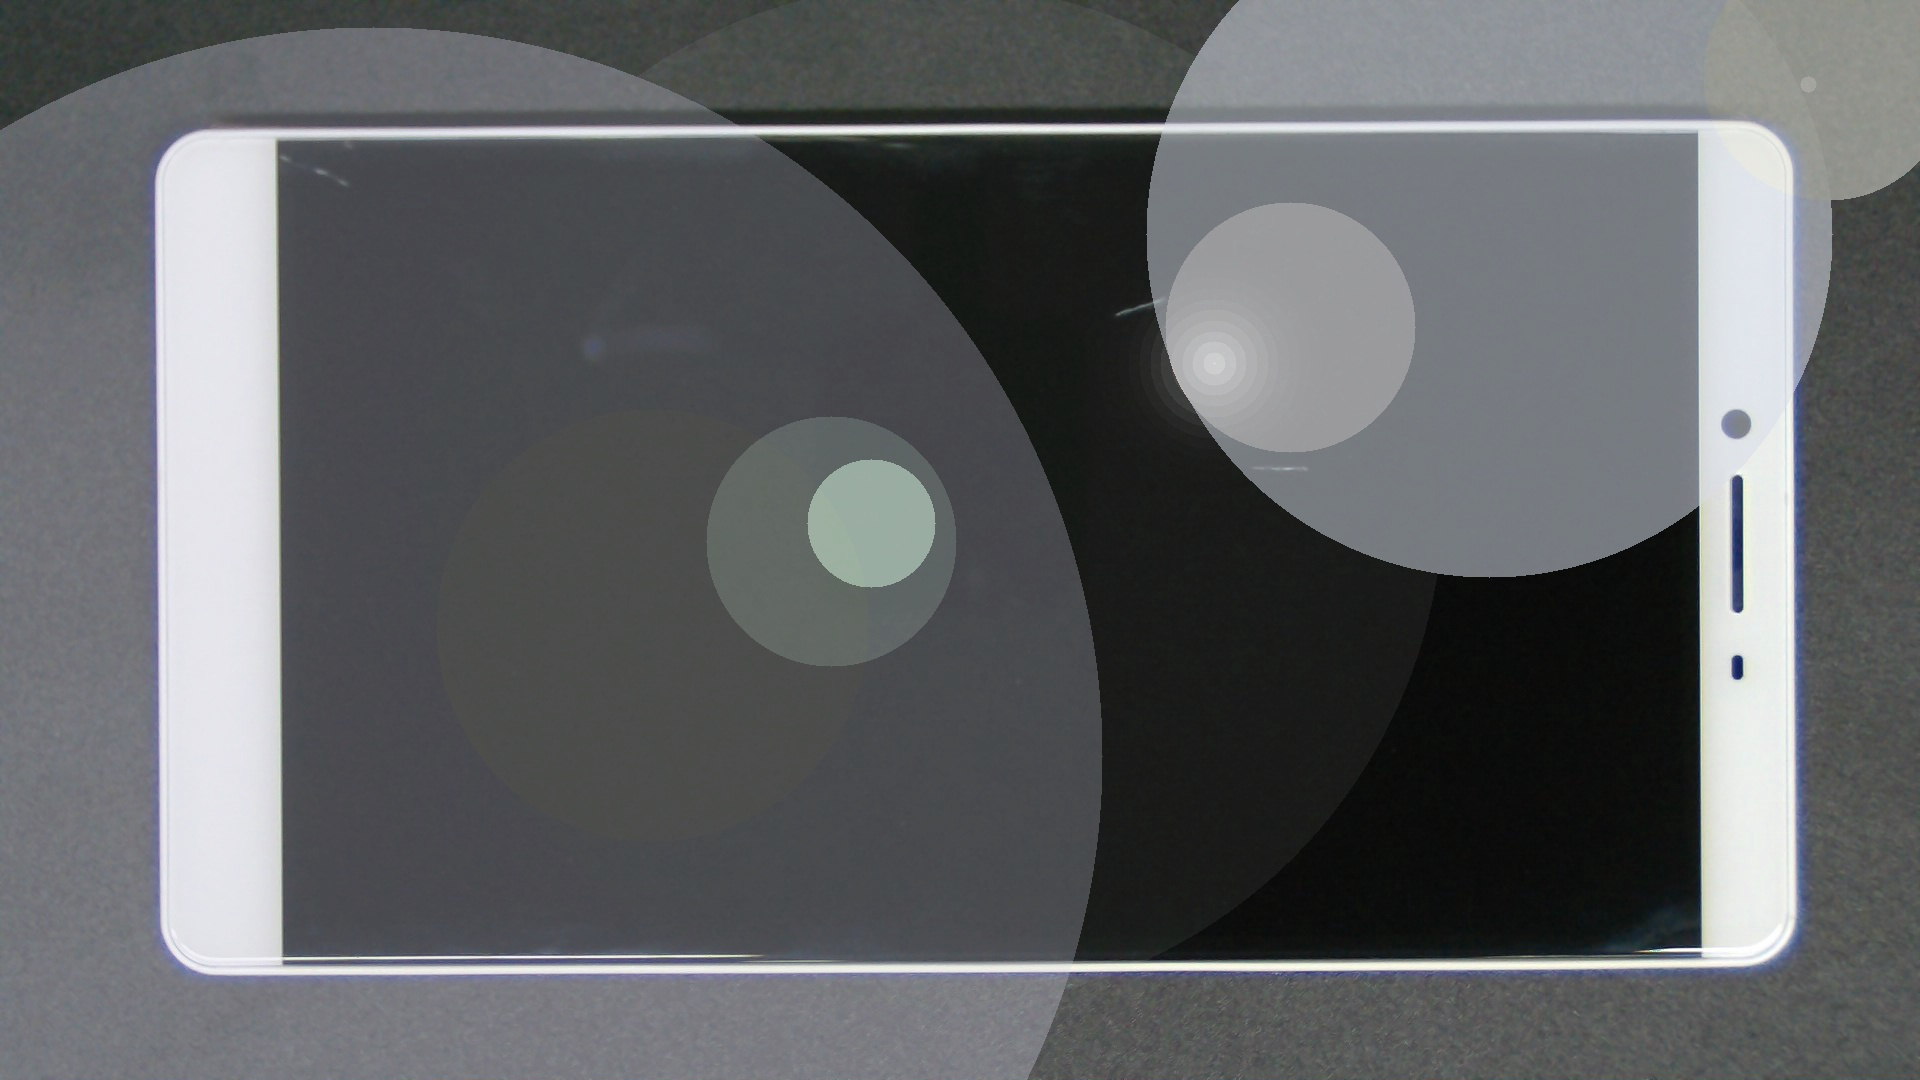oil: (628, 232, 1880, 699), (583, 148, 1746, 444)
